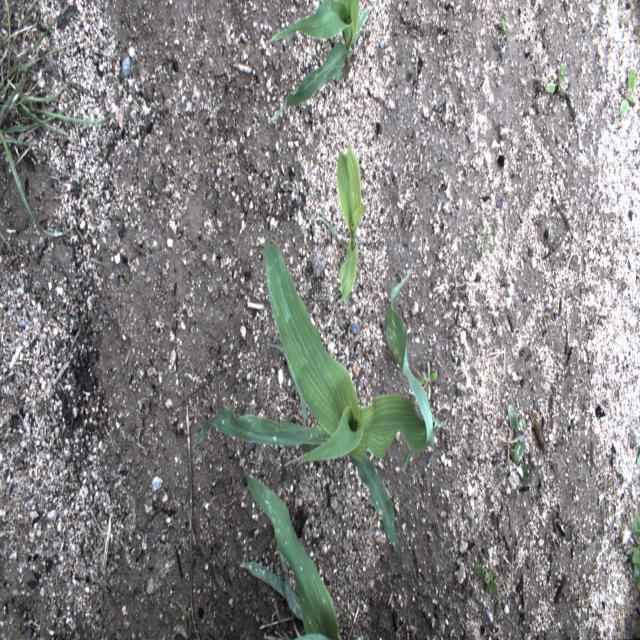crop: (192, 241, 444, 563), (239, 461, 343, 639), (260, 0, 372, 124), (313, 147, 368, 304)
weed: (0, 0, 110, 239), (503, 394, 532, 484), (472, 562, 506, 606), (625, 500, 638, 589), (543, 56, 569, 100), (618, 70, 638, 127), (415, 356, 436, 396), (472, 222, 494, 260), (496, 10, 512, 50)
